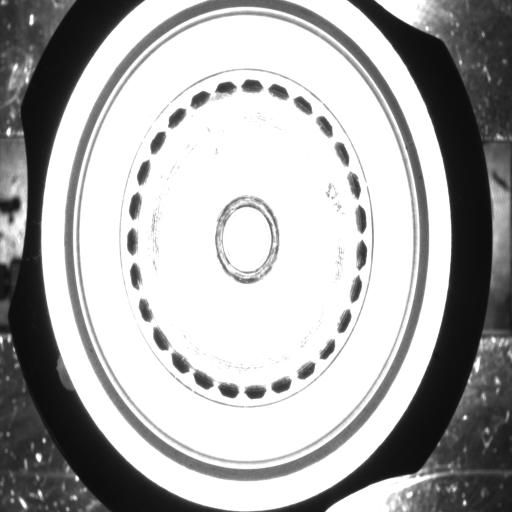gear: (126, 78, 368, 403)
